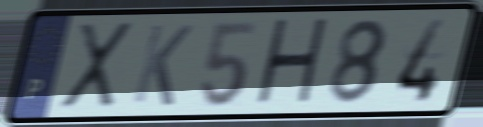4: (391, 15, 445, 106)
5: (198, 18, 262, 110)
8: (325, 17, 389, 108)
H: (250, 14, 333, 112)
K: (128, 21, 197, 109)
X: (57, 19, 137, 114)
